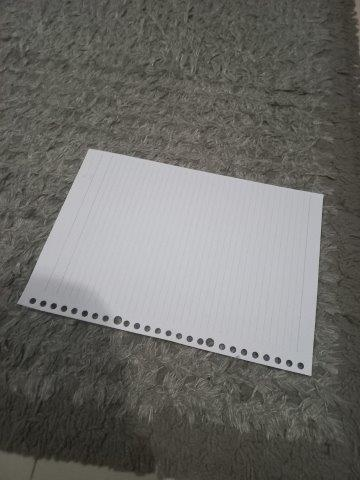kertas: (18, 149, 324, 377)
